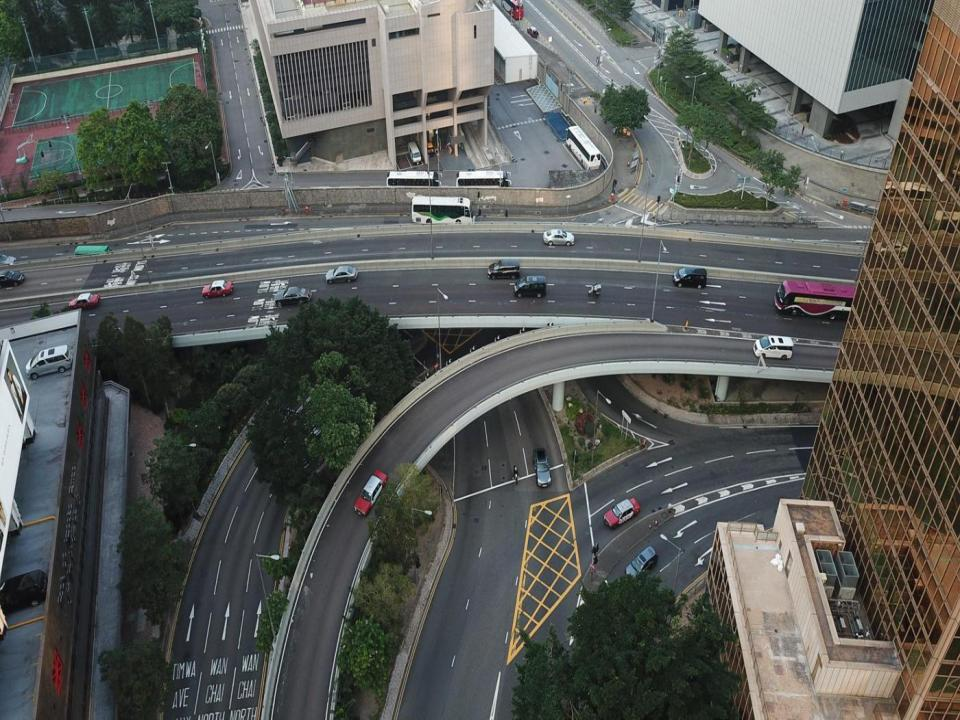bus: (412, 192, 471, 232), (386, 170, 440, 199), (73, 241, 114, 266), (456, 168, 491, 197)
car: (774, 277, 818, 324), (564, 122, 600, 174), (3, 573, 47, 613), (353, 469, 388, 518), (603, 496, 645, 530), (622, 548, 658, 580), (273, 286, 318, 310), (512, 273, 547, 302), (670, 264, 708, 290), (752, 335, 792, 359), (530, 444, 550, 489), (544, 229, 575, 248), (489, 260, 518, 280), (202, 280, 234, 298), (497, 1, 524, 21), (326, 265, 357, 281), (69, 293, 95, 312), (0, 270, 24, 290), (528, 26, 538, 38)
van: (27, 344, 73, 381)
